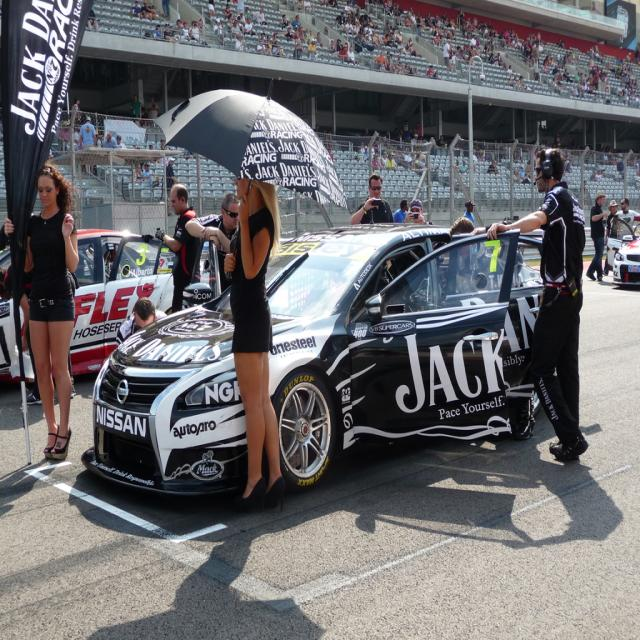Passenger Car: (78, 224, 560, 499), (606, 214, 640, 296)
Pedestrians: (518, 148, 598, 462), (231, 159, 287, 515), (30, 162, 75, 466)
